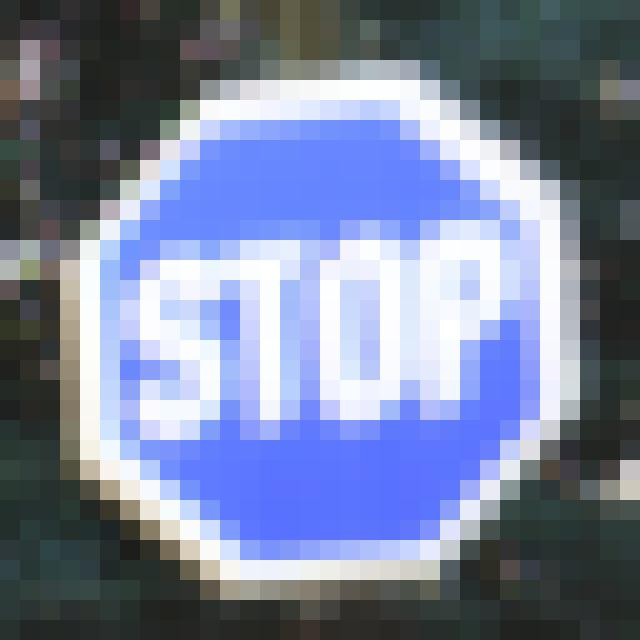STOP: (86, 96, 564, 576)
